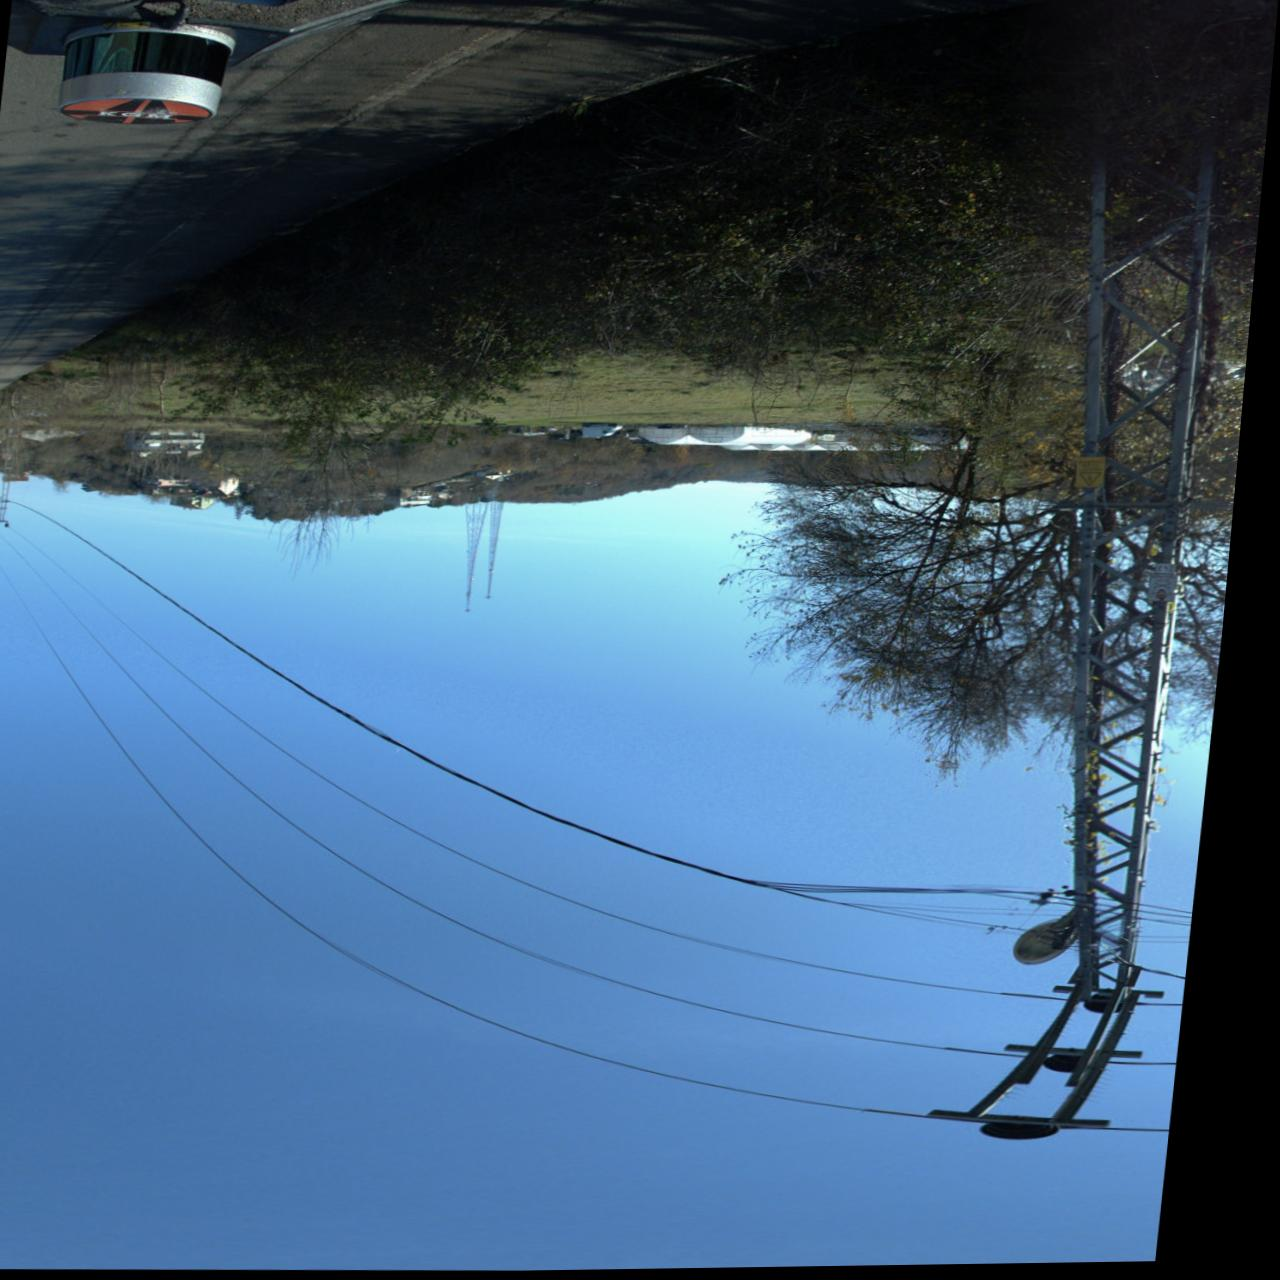Utility Pole Information Plate: (1081, 458, 1114, 490), (1157, 576, 1189, 606)
